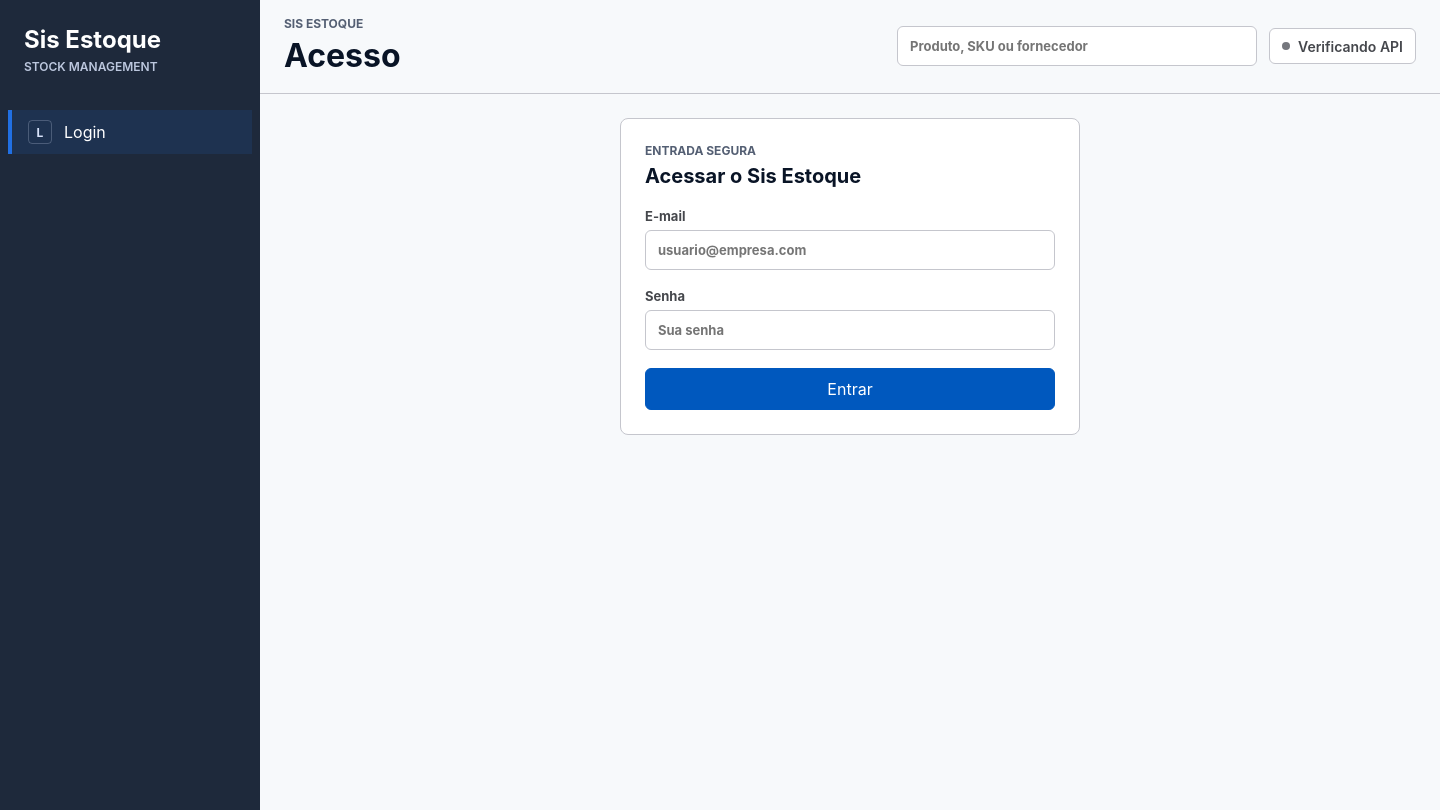
Scenario: renders required interface states after login
In the field labelled "E-mail": [850, 250] box [645, 230, 1055, 270], type "admin@example.com"
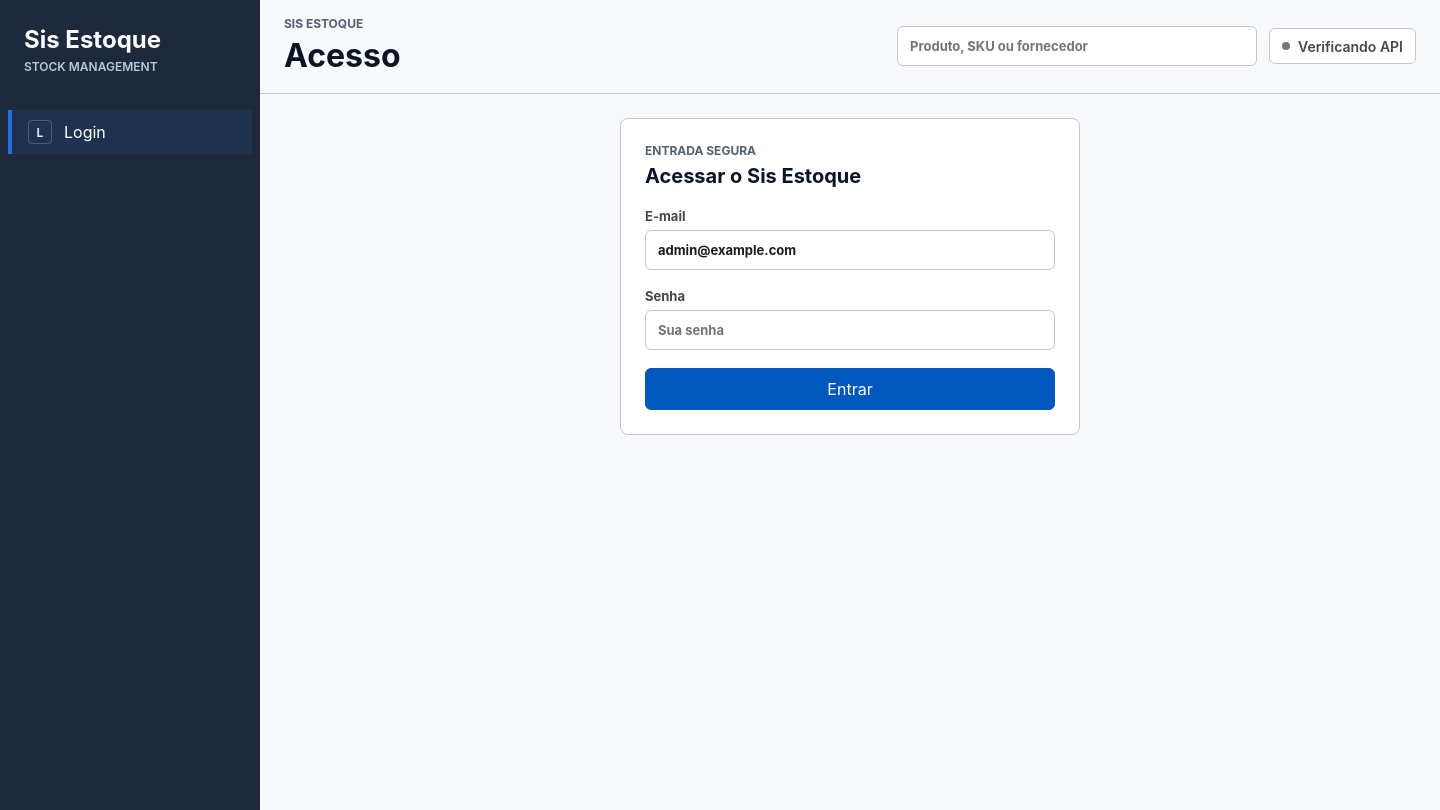
In the password field labelled "Senha": [850, 330] box [645, 310, 1055, 350], type "strong-password"
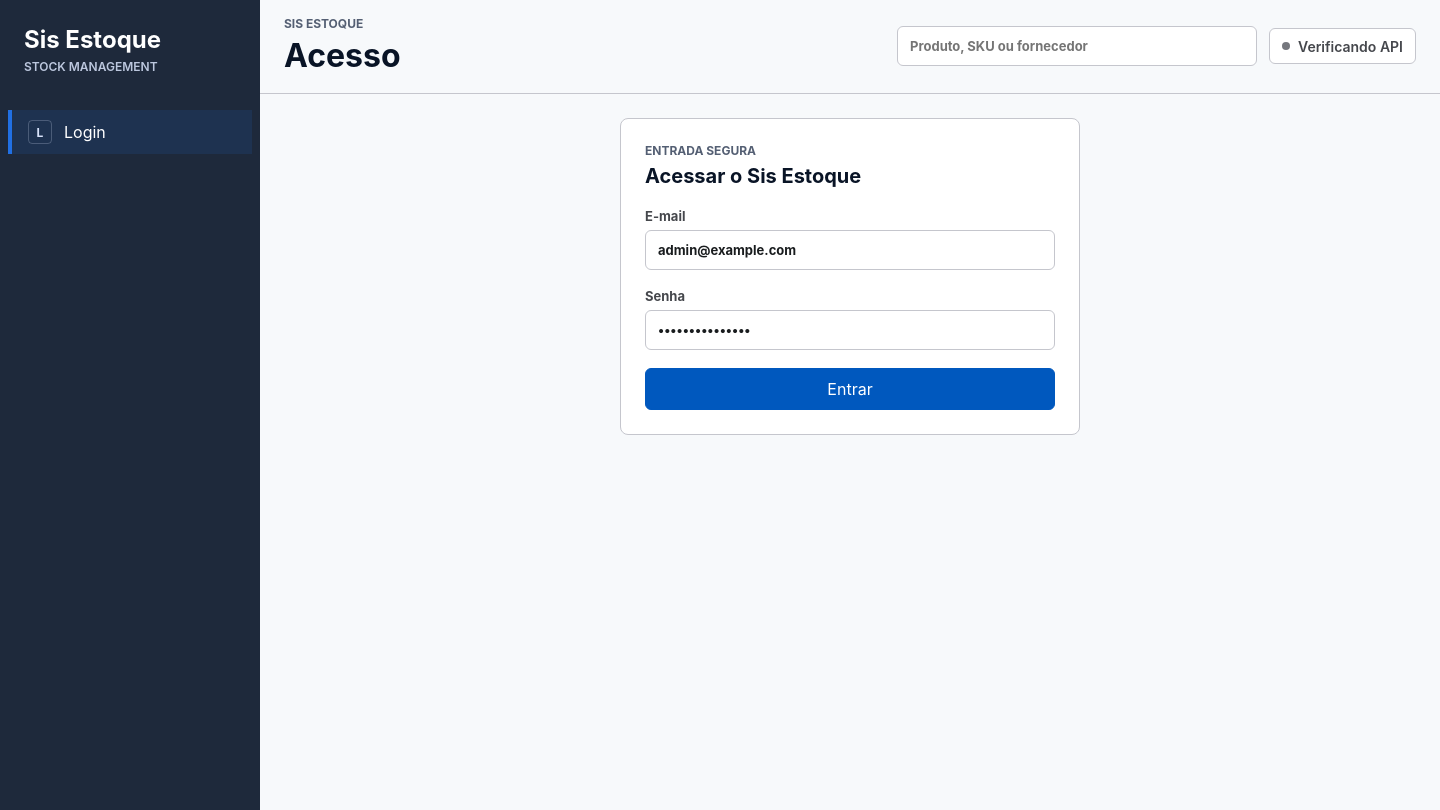
Click the button "Entrar": [850, 389] box [645, 368, 1055, 410]
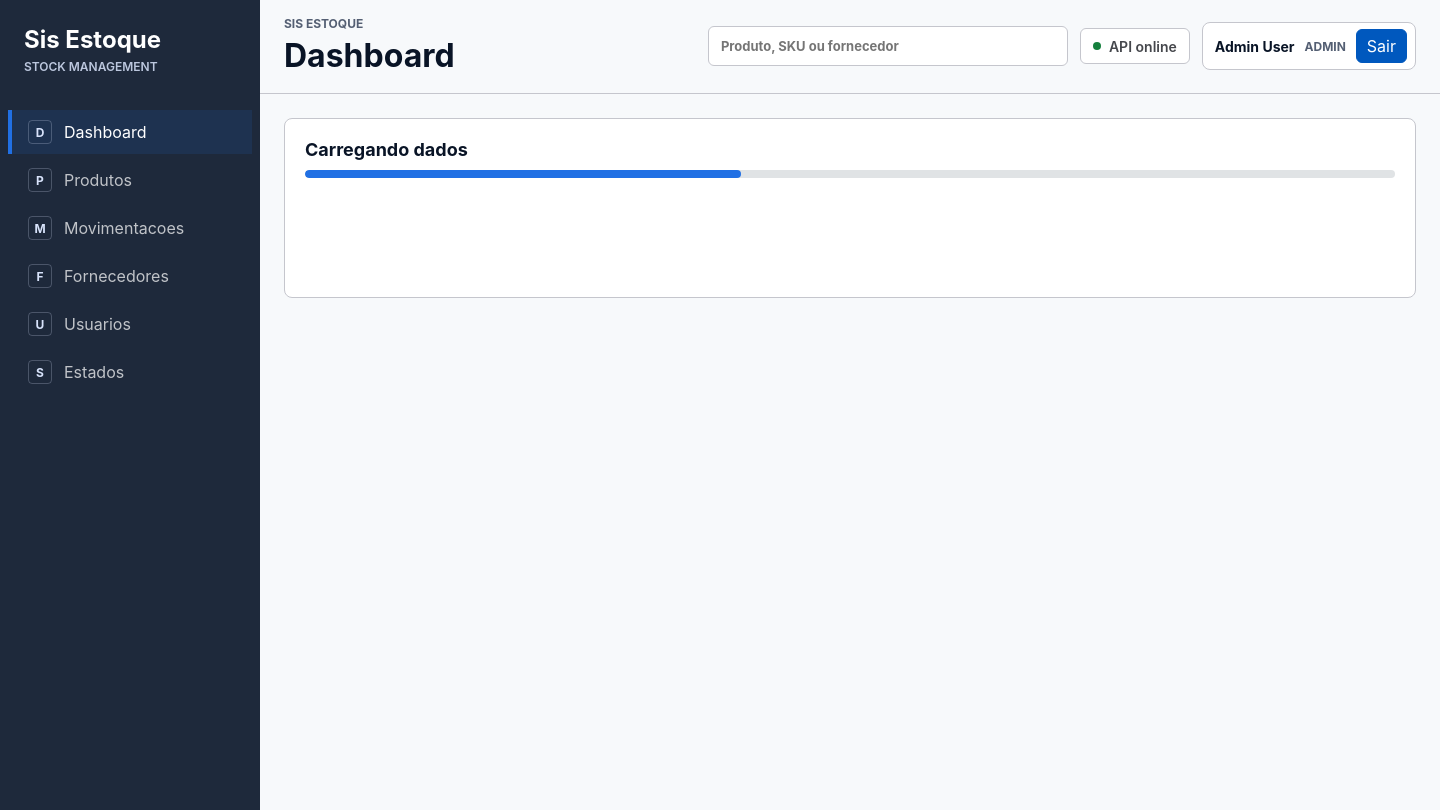
Check: the heading "Dashboard" is shown, box [284, 35, 455, 77]
Click the button "S Estados": [130, 372] box [8, 350, 252, 394]
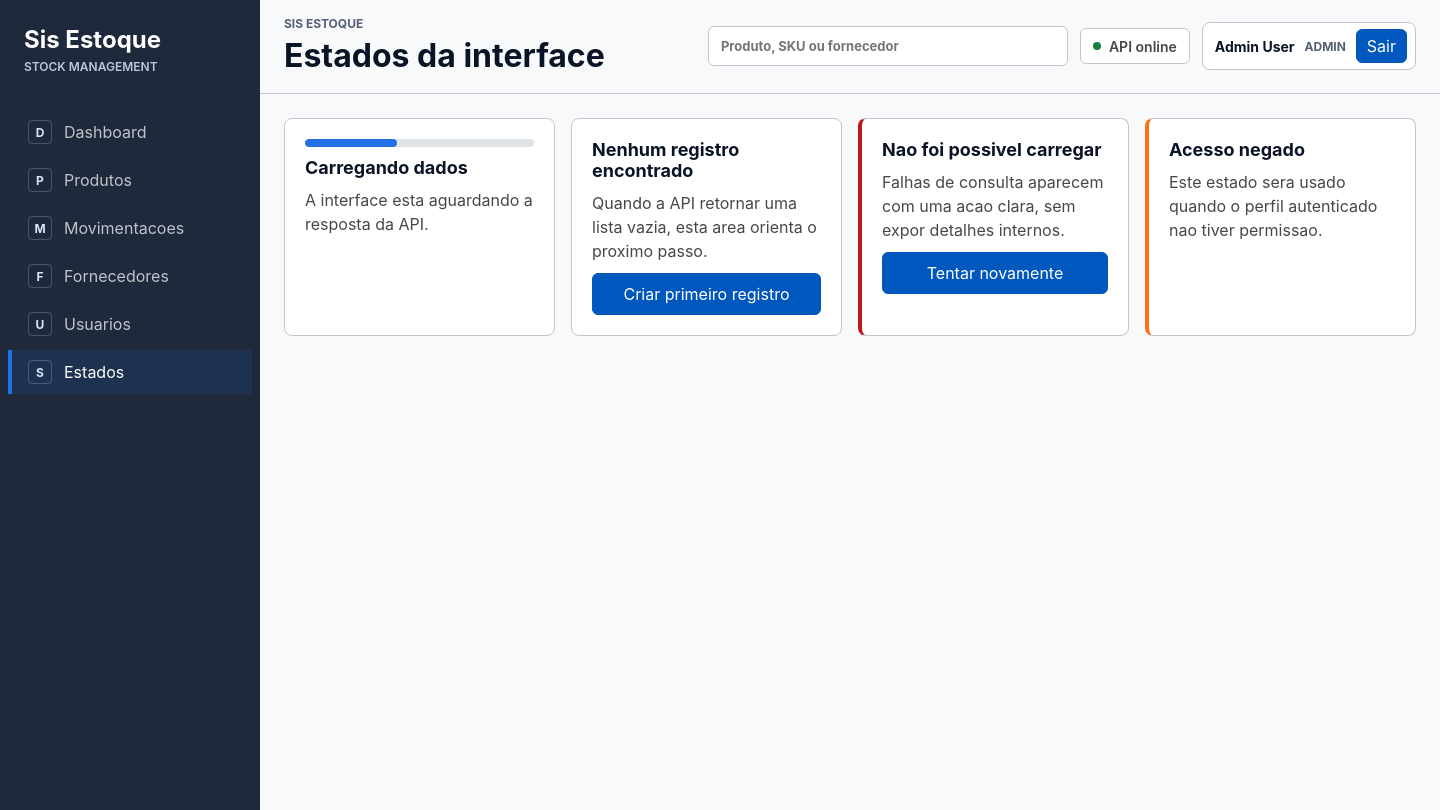
Check: the text "Carregando dados" is shown, box [305, 157, 468, 178]
Check: the text "Nenhum registro encontrado" is shown, box [592, 139, 739, 181]
Check: the text "Nao foi possivel carregar" is shown, box [882, 139, 1108, 160]
